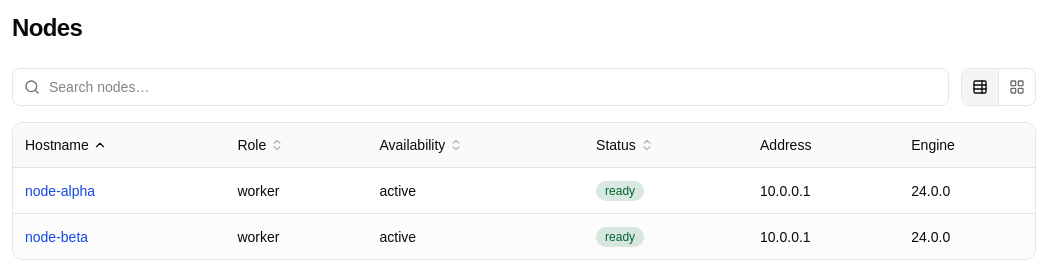
it: NodeList › filters by search
Check: the link "node-alpha" is shown, box [25,182,95,198]
In the field with placeholder "Search nodes…": (480, 87) [12,68,949,106], type "beta"
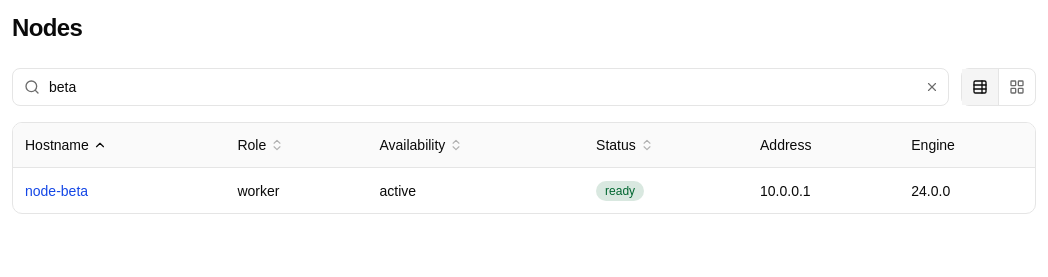
Check: the link "node-beta" is shown, box [25,182,88,198]
Check: the link "node-alpha" is gone
